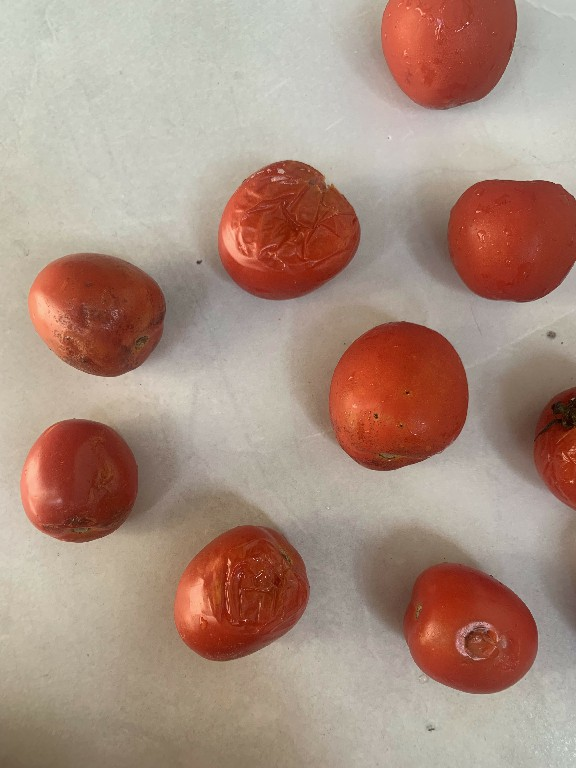NG: (210, 150, 369, 309), (167, 514, 320, 665), (319, 320, 469, 470), (23, 240, 175, 384), (401, 558, 548, 696), (13, 412, 143, 546)
OK: (443, 170, 576, 314), (375, 0, 531, 122)
